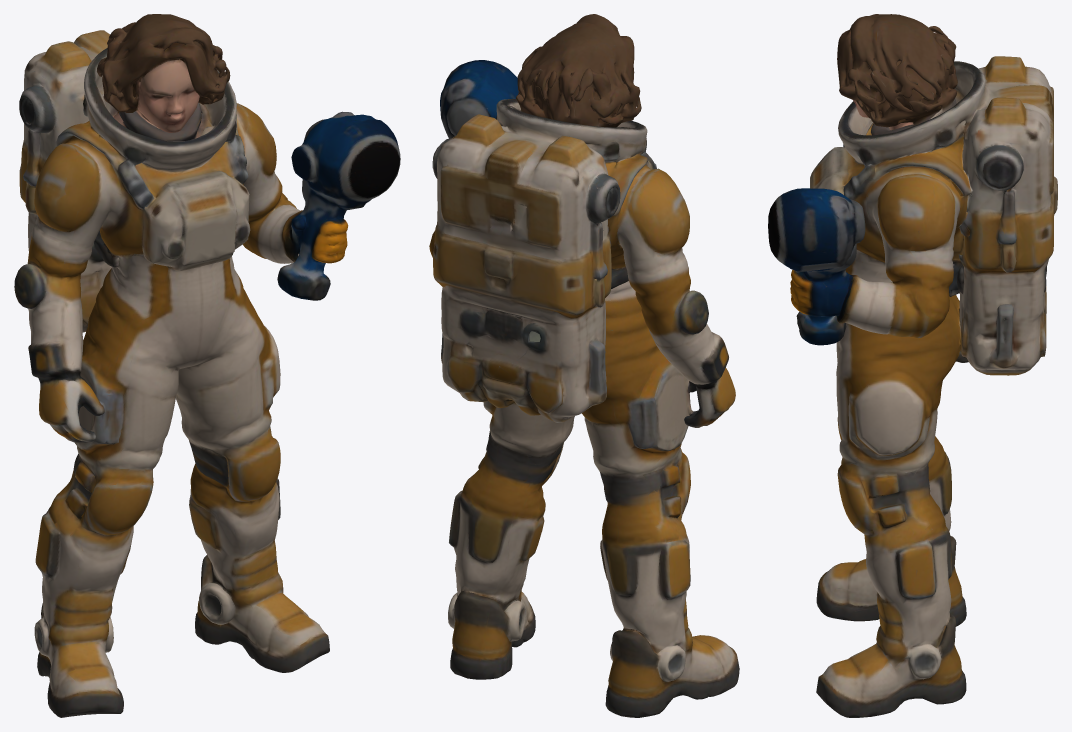
Rendered from generation_pilot_2.glb.
3 renders of one model, left to right at view 1: azimuth 30°, elevation 25°; view 2: azimuth 150°, elevation 25°; view 3: azimuth 270°, elevation 25°, orthographic. The views are drawn at different scales.
Visible parts, largest first — view 1: geometry_0; view 2: geometry_0; view 3: geometry_0.
Boxes of the visible parts, box(x1,y1,x2,y2) form: geometry_0: box(14, 14, 400, 717); geometry_0: box(429, 14, 739, 717); geometry_0: box(768, 14, 1057, 717).
Bounding box in the file's own units: 0.5154 × 1 × 0.415.
1 material, 1 textured.
